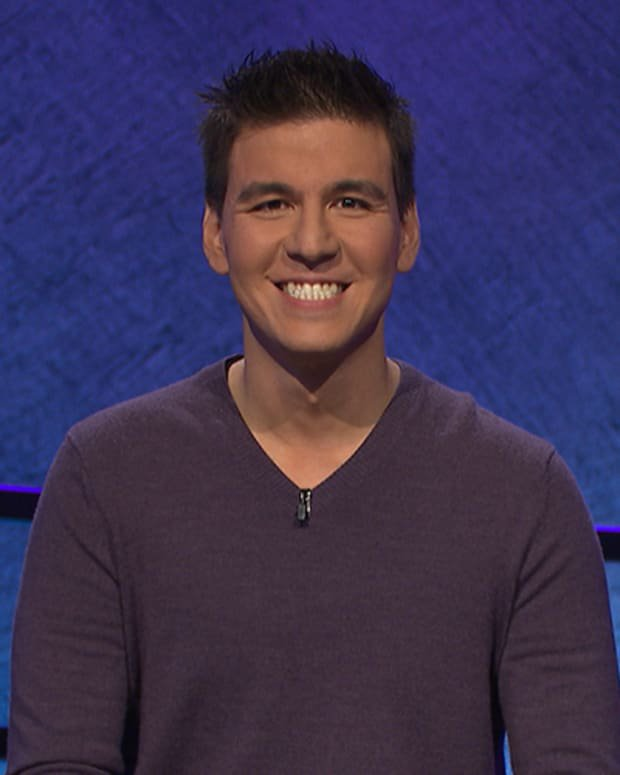noMask: (180, 46, 454, 363)
